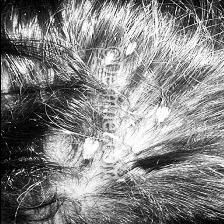Non-Cancerous Skin Condition: (117, 149, 194, 187), (73, 128, 113, 164), (100, 36, 142, 68), (139, 97, 179, 129)
